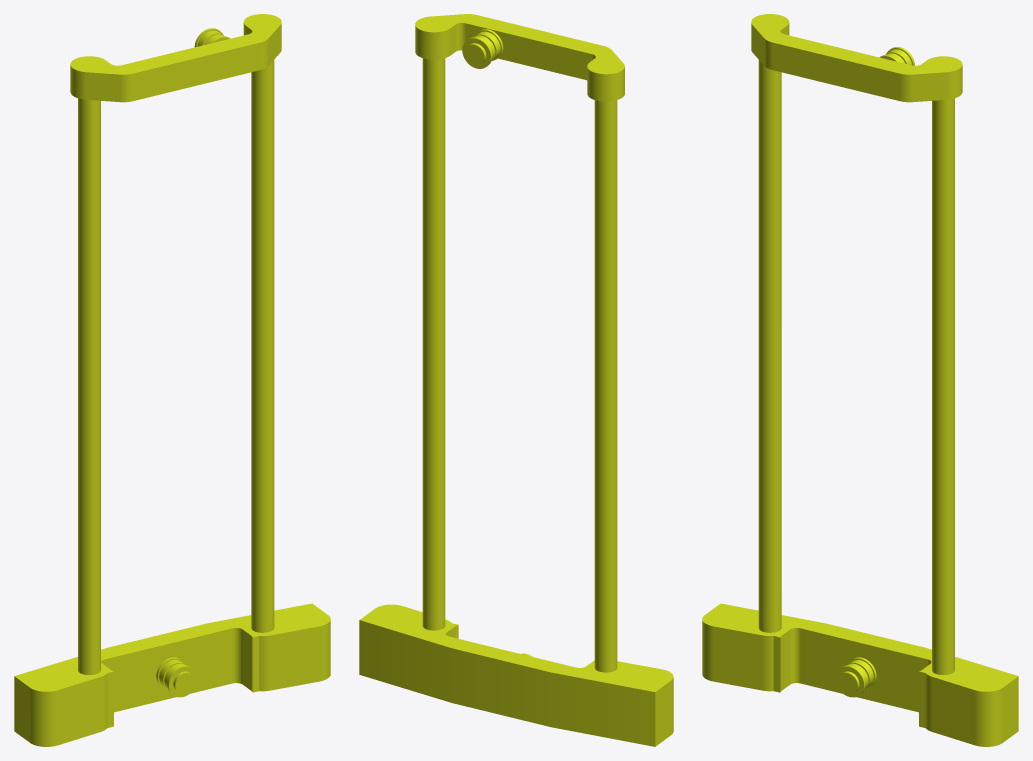
3 renders of one model, left to right at view 1: azimuth 30°, elevation 25°; view 2: azimuth 150°, elevation 25°; view 3: azimuth 330°, elevation 25°, orthographic.
Visible parts, largest first — view 1: id11, id5, id2, id8, id17; view 2: id11, id2, id5, id8, id20; view 3: id11, id2, id5, id8, id17.
Boxes of the visible parts, box(x1,y1,x2,y2) form: id11: box(14, 603, 330, 746); id5: box(251, 60, 274, 632); id2: box(78, 98, 100, 674); id8: box(70, 14, 281, 102); id17: box(164, 663, 197, 697); id11: box(359, 604, 673, 746); id2: box(594, 100, 617, 672); id5: box(422, 58, 445, 630); id8: box(415, 14, 624, 101); id20: box(462, 35, 495, 68); id11: box(702, 603, 1018, 746); id2: box(758, 60, 781, 632); id5: box(932, 98, 954, 674); id8: box(751, 14, 962, 102); id17: box(835, 663, 868, 697).
Bounding box in the file's own units: 0.1435 × 0.3049 × 0.0326.
